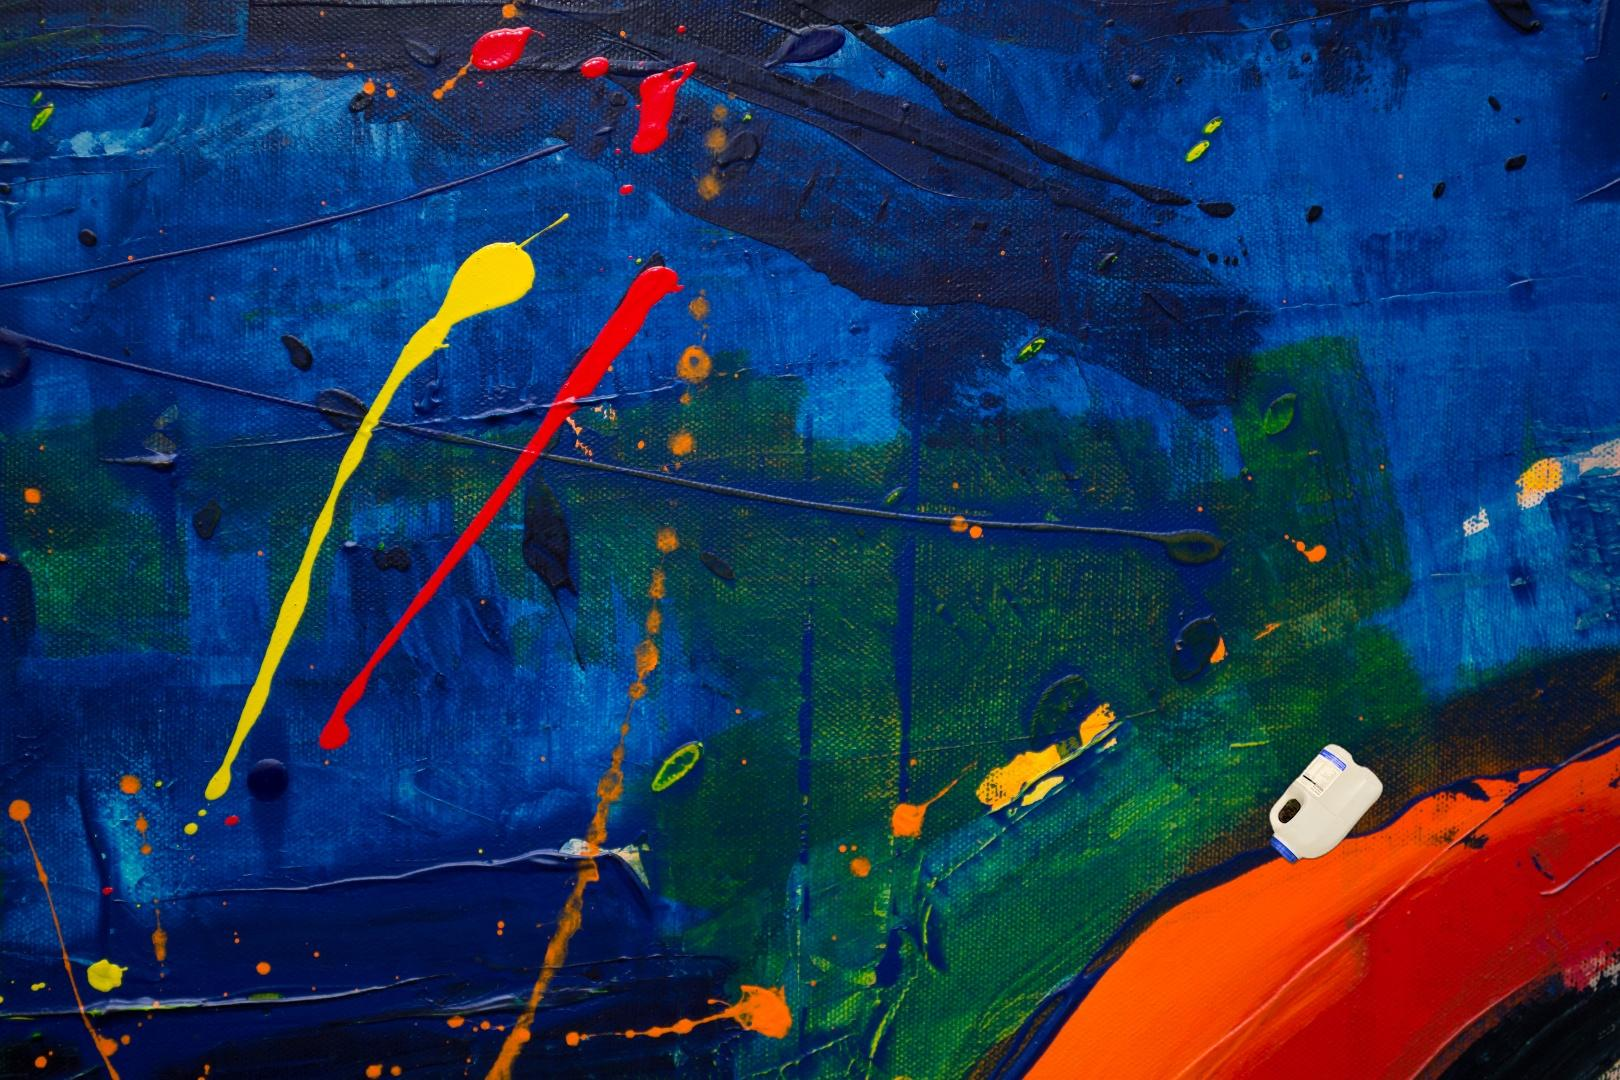plastic-bottles: (1264, 736, 1518, 1004)
